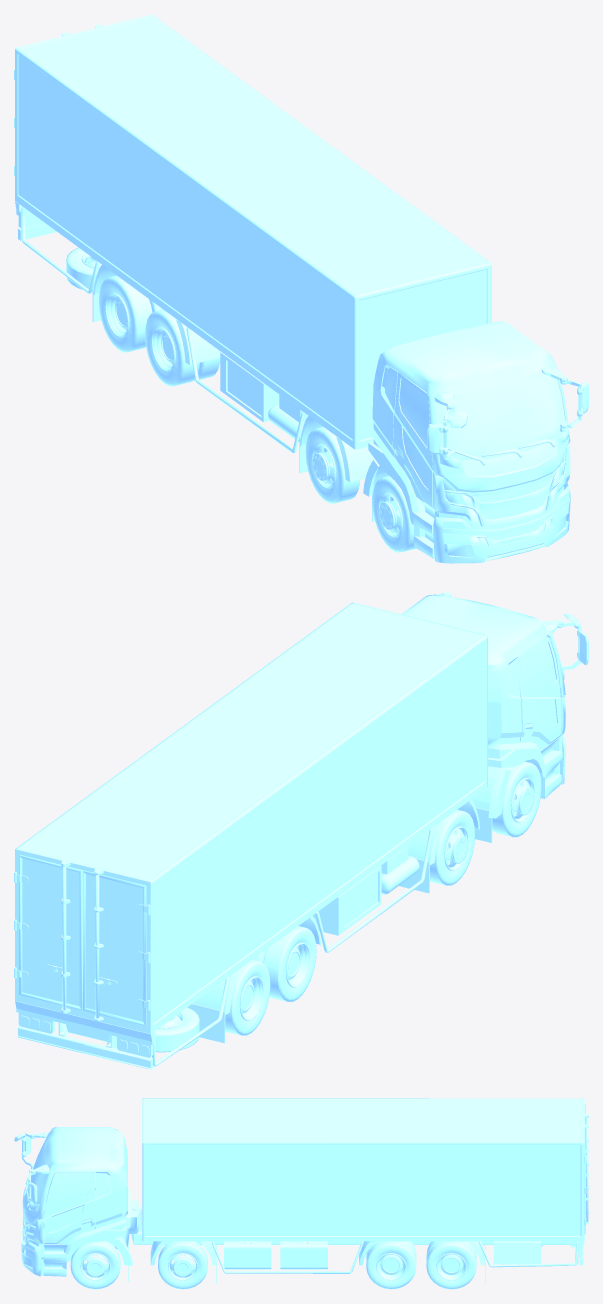
Rendered from Ansamblu_edit_v1.glb.
3 renders of one model, top to bottom at view 1: azimuth 30°, elevation 25°; view 2: azimuth 150°, elevation 25°; view 3: azimuth 270°, elevation 25°, orthographic. The views are drawn at different scales.
Parts seen in each view (by area): view 1: Truck_body_Truck_body.L_3_20, Truck_head_Truck_head.L_1_7, wheels_Circle.006_20_58, wheels_Circle.010_18_55, wheels_Circle.028_11_43, wheels_Circle.027_9_40, wheels_Circle.007_21_60, wheels_Circle.009_17_53, wheels_Circle.029_12_45, wheels_Circle.026_8_38; view 2: Truck_body_Truck_body.L_3_20, Truck_head_Truck_head.L_1_7, wheels_Circle.010_18_55, wheels_Circle.027_9_40, wheels_Circle.028_11_43, wheels_Circle.006_20_58, wheels_Circle.007_21_60, wheels_Circle.009_17_53, wheels_Circle.029_12_45, wheels_Circle.026_8_38; view 3: Truck_body_Truck_body.L_3_20, Truck_head_Truck_head.L_1_7, wheels_Circle.013_26_68, wheels_Circle.008_23_63, wheels_Circle.025_15_50, wheels_Circle.001_5_33, wheels_Circle.014_27_70, wheels_Circle.002_6_35, wheels_Circle.012_24_65, wheels_Circle.024_14_48.
Part boxes in pixels (x1,y1,x2,y2): Truck_body_Truck_body.L_3_20: (14, 14, 491, 482); Truck_head_Truck_head.L_1_7: (363, 321, 588, 563); wheels_Circle.006_20_58: (98, 275, 162, 352); wheels_Circle.010_18_55: (145, 309, 220, 386); wheels_Circle.028_11_43: (305, 427, 360, 503); wheels_Circle.027_9_40: (372, 476, 415, 552); wheels_Circle.007_21_60: (105, 292, 129, 337); wheels_Circle.009_17_53: (151, 326, 175, 371); wheels_Circle.029_12_45: (312, 443, 336, 488); wheels_Circle.026_8_38: (379, 492, 402, 537); Truck_body_Truck_body.L_3_20: (14, 602, 487, 1069); Truck_head_Truck_head.L_1_7: (402, 592, 588, 842); wheels_Circle.010_18_55: (253, 926, 316, 1002); wheels_Circle.027_9_40: (492, 761, 541, 837); wheels_Circle.028_11_43: (430, 809, 475, 885); wheels_Circle.006_20_58: (225, 959, 270, 1035); wheels_Circle.007_21_60: (239, 976, 263, 1020); wheels_Circle.009_17_53: (286, 942, 309, 987); wheels_Circle.029_12_45: (444, 826, 468, 870); wheels_Circle.026_8_38: (511, 778, 534, 822); Truck_body_Truck_body.L_3_20: (131, 1098, 588, 1283); Truck_head_Truck_head.L_1_7: (14, 1127, 141, 1281); wheels_Circle.013_26_68: (426, 1241, 476, 1289); wheels_Circle.008_23_63: (366, 1241, 416, 1289); wheels_Circle.025_15_50: (158, 1241, 207, 1289); wheels_Circle.001_5_33: (70, 1241, 120, 1289); wheels_Circle.014_27_70: (436, 1253, 466, 1280); wheels_Circle.002_6_35: (80, 1253, 110, 1280); wheels_Circle.012_24_65: (376, 1253, 406, 1280); wheels_Circle.024_14_48: (168, 1253, 197, 1280).
Size of the model in its own units: 3.45 by 4.51 by 15.91.
